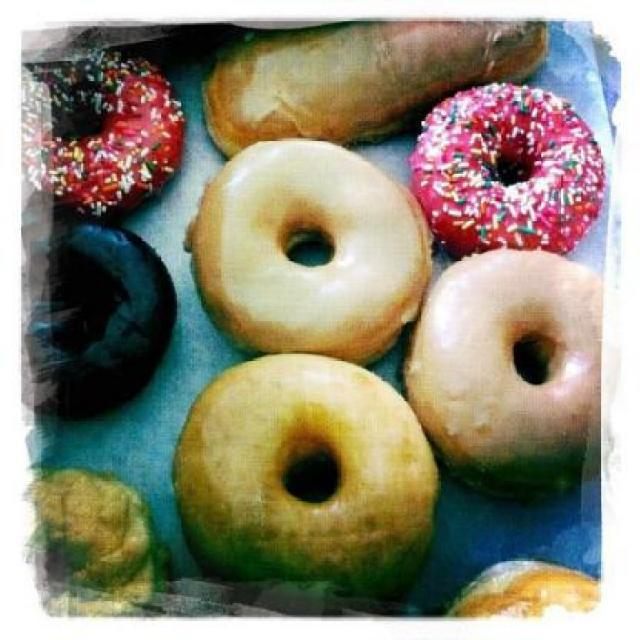Donuts: (15, 27, 588, 610)
